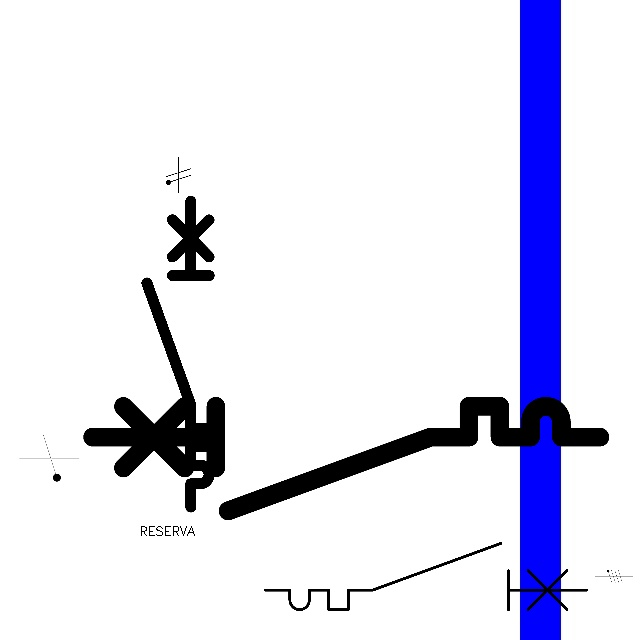interruptor_termomagnetico: (79, 393, 613, 523), (257, 535, 595, 618), (139, 193, 217, 514)
